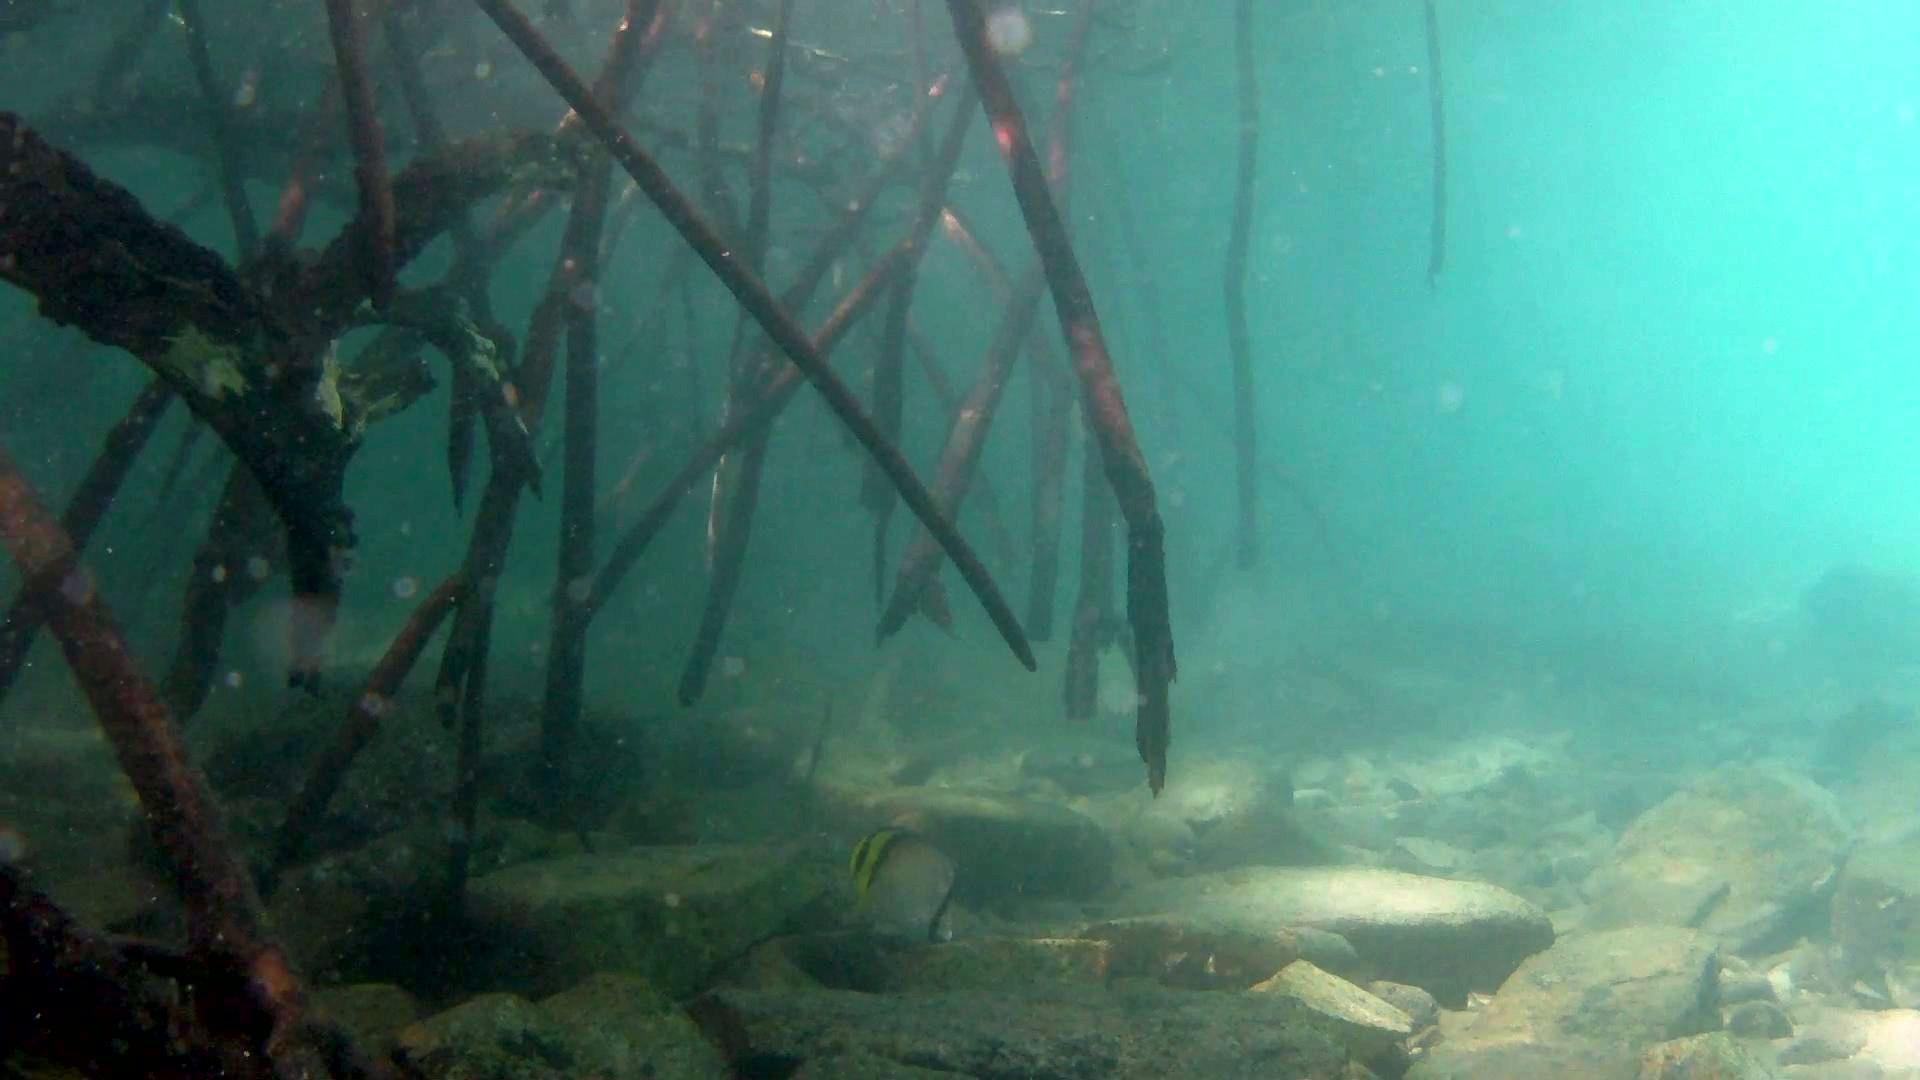chaetodon vagabundus: (840, 822, 961, 951)
